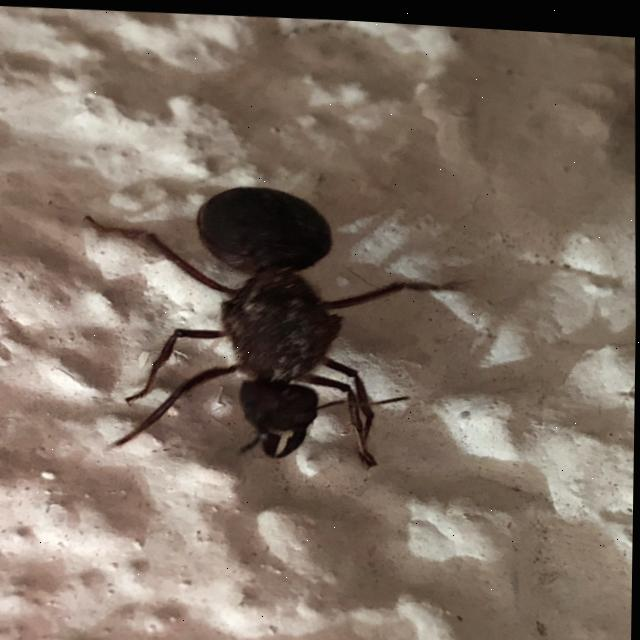Alive-Female-Dealate: (81, 170, 478, 477)
